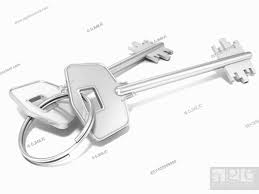key: (63, 37, 257, 142)
